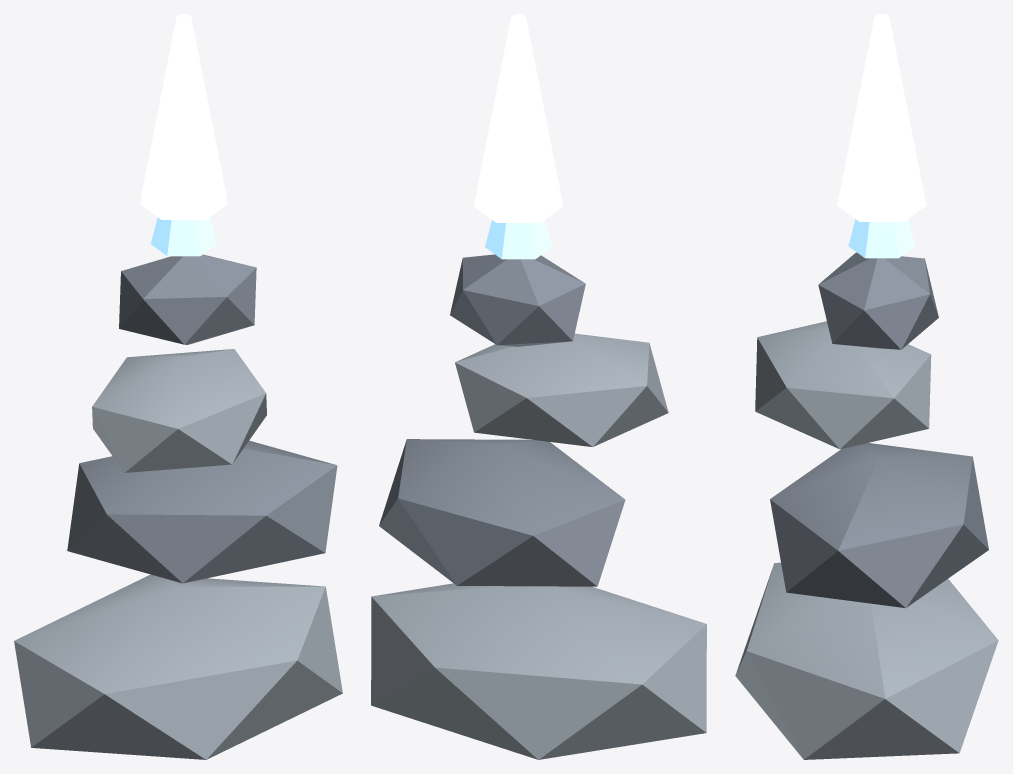
Rendered from cloudloft_cairn.glb.
3 renders of one model, left to right at view 1: azimuth 30°, elevation 25°; view 2: azimuth 150°, elevation 25°; view 3: azimuth 270°, elevation 25°, orthographic.
Parts seen in each view (by area): view 1: cloudloft_cairn; view 2: cloudloft_cairn; view 3: cloudloft_cairn.
Boxes of the visible parts, x1,y1,x2,y2 form: cloudloft_cairn: (14, 14, 342, 759); cloudloft_cairn: (371, 14, 706, 759); cloudloft_cairn: (735, 14, 998, 759).
Size of the model in its own units: 0.4895 by 1.08 by 0.3537.
